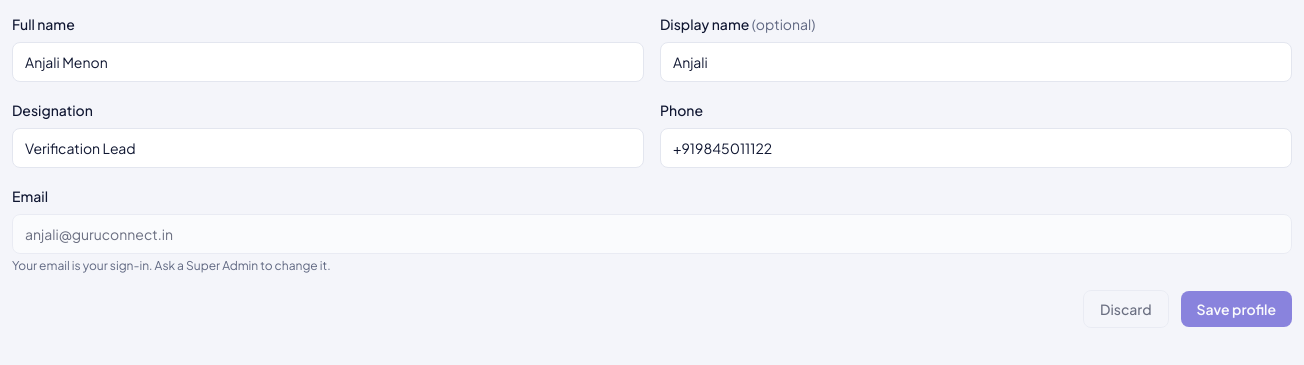
ProfileForm › rejects Full name “A” before sending anything
The width and height of the screenshot is (1304, 365).
Replace the text in the field labelled "Full name" with "A" at x=328, y=62, box [12, 42, 644, 82]
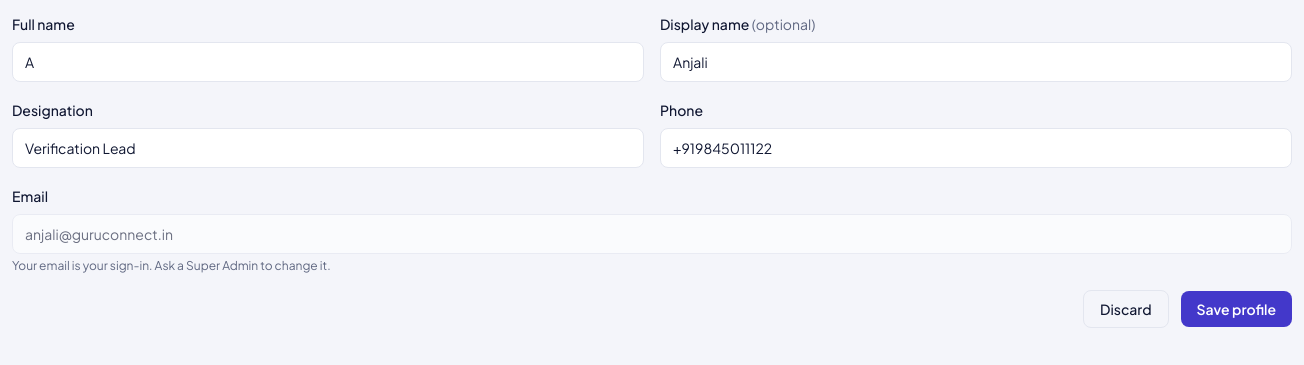
Click the button "Save profile" at x=1236, y=309, box [1181, 291, 1292, 327]
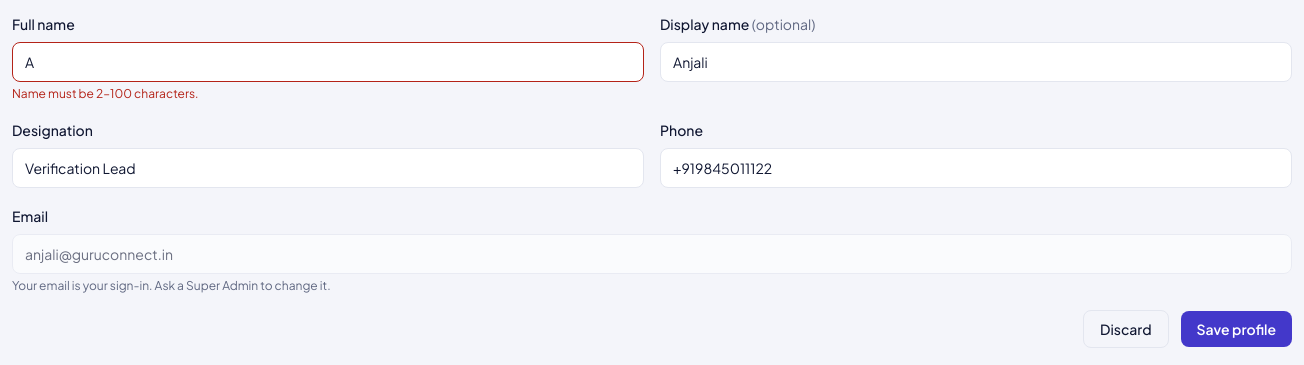
Check: the text "Name must be 2–100 characters." is shown, box [12, 86, 198, 101]
